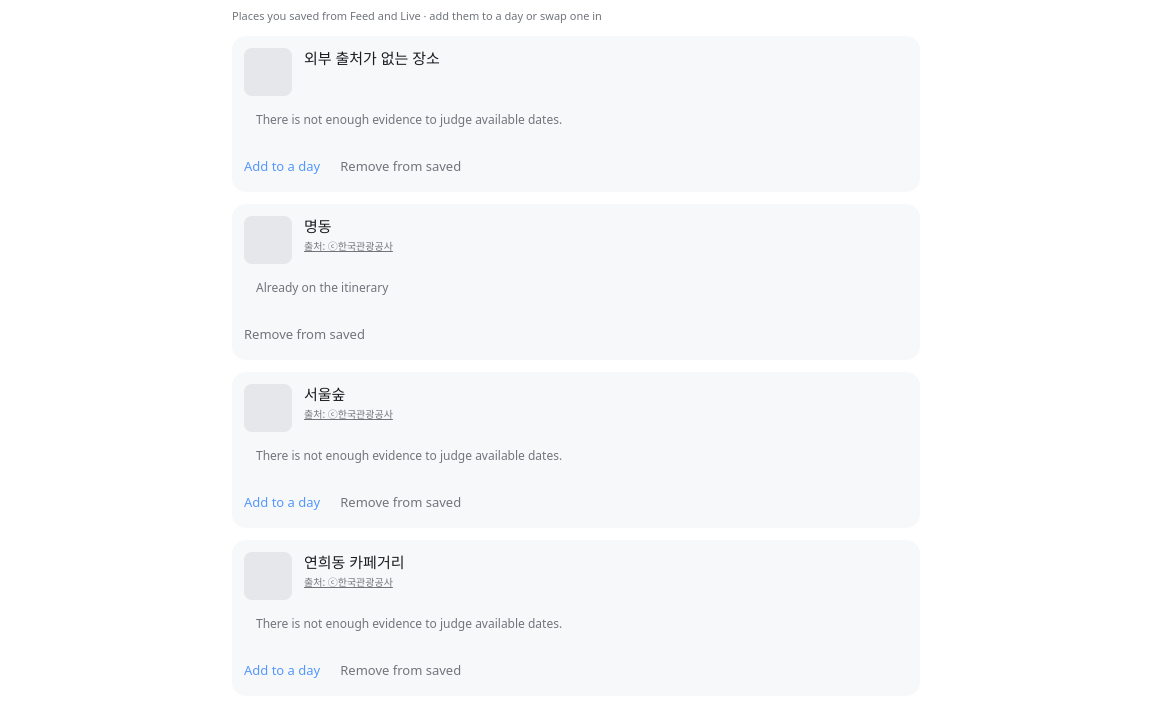
Scenario: FE-303-T2 the five match states each say their own thing › does not enable other unknown reasons as manual dates
This screenshot has width=1152, height=720.
(page scrolled)
expect the heading "연희동 카페거리" is shown: met, box [304,552,404,572]
Step 1. Click the button "Add to a day" below "연희동 카페거리" → (282, 670), box [244,648,320,692]
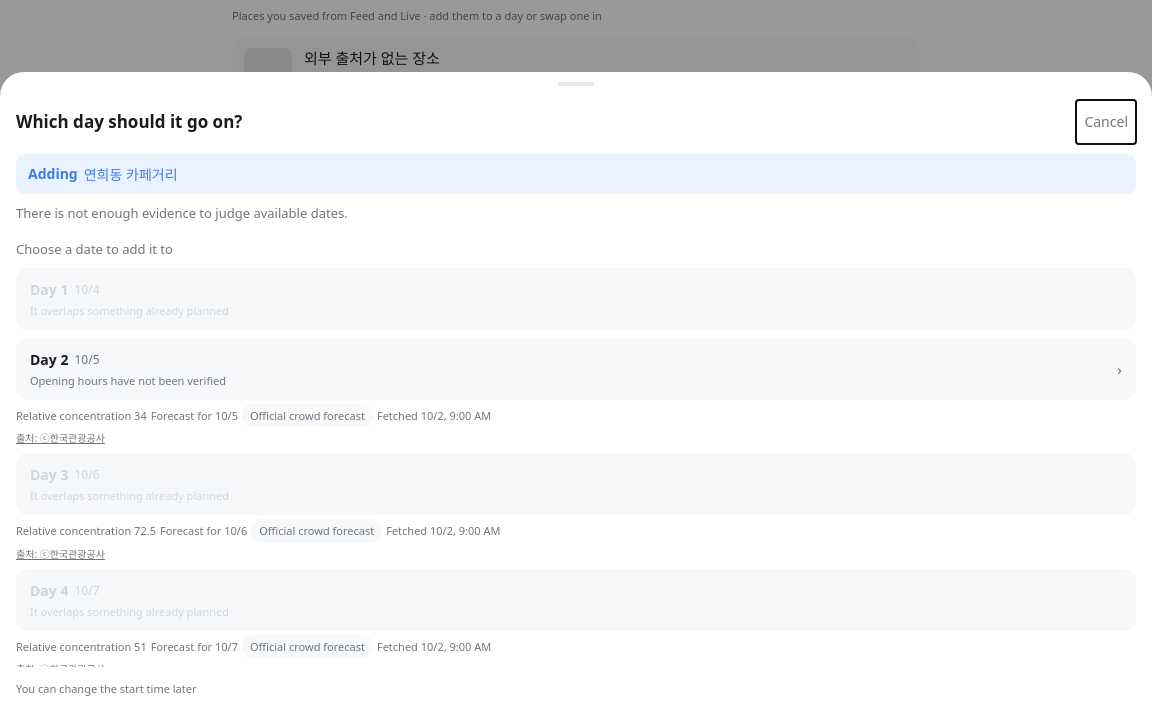
expect the button "Day 1 10/4 It overlaps something already planned" is disabled: met, box [16,268,1136,330]
expect the button "Day 2 10/5 Opening hours have not been verified ›" is enabled: met, box [16,338,1136,400]
expect the button "Day 3 10/6 It overlaps something already planned" is disabled: met, box [16,453,1136,515]
